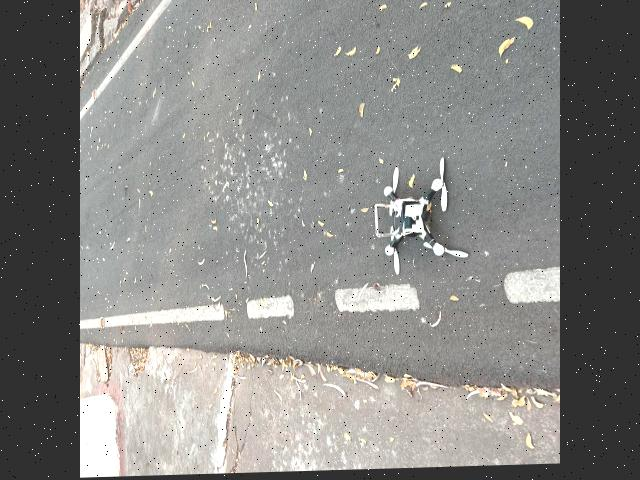drone: (346, 137, 484, 288)
